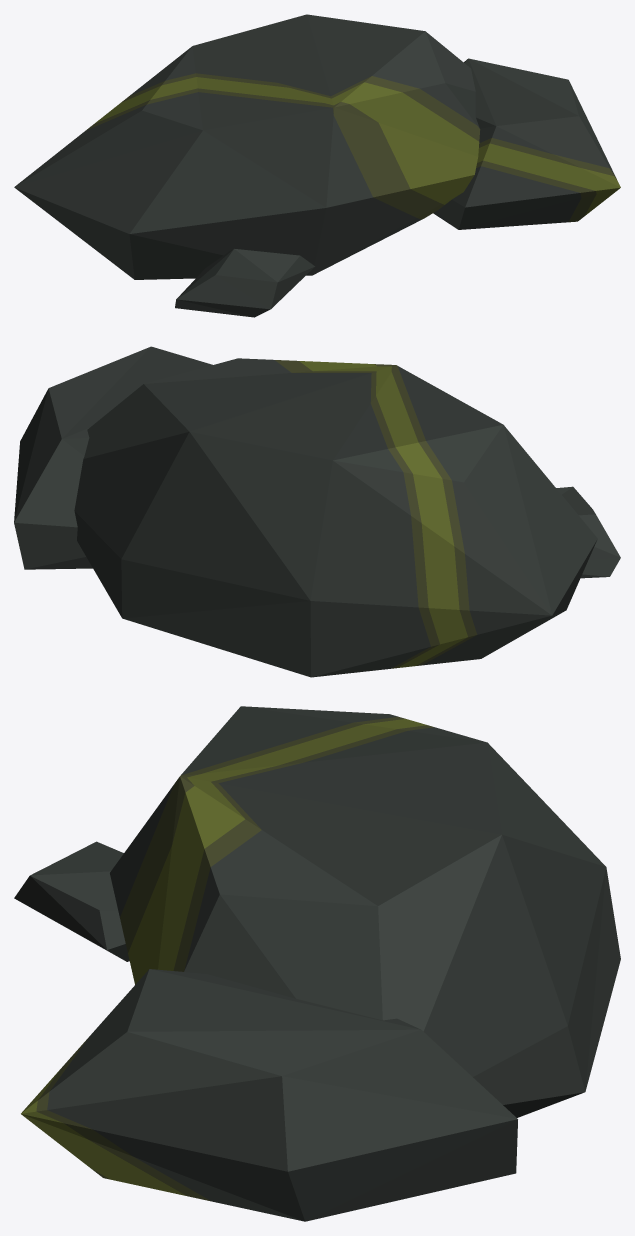
File: ore_uranium_v02_lod0.glb
3 views of the same model, one above another, from view 1: azimuth 30°, elevation 25°; view 2: azimuth 150°, elevation 25°; view 3: azimuth 270°, elevation 25° (orthographic). The views are drawn at different scales.
Visible parts, largest first — view 1: ore_uranium_v02_lod0; view 2: ore_uranium_v02_lod0; view 3: ore_uranium_v02_lod0.
Part boxes in pixels (box(x1,y1,x2,y2)): ore_uranium_v02_lod0: box(14, 14, 620, 317); ore_uranium_v02_lod0: box(14, 346, 620, 677); ore_uranium_v02_lod0: box(14, 706, 620, 1221).
Size of the model in its own units: 2.88 by 0.7977 by 1.87.
